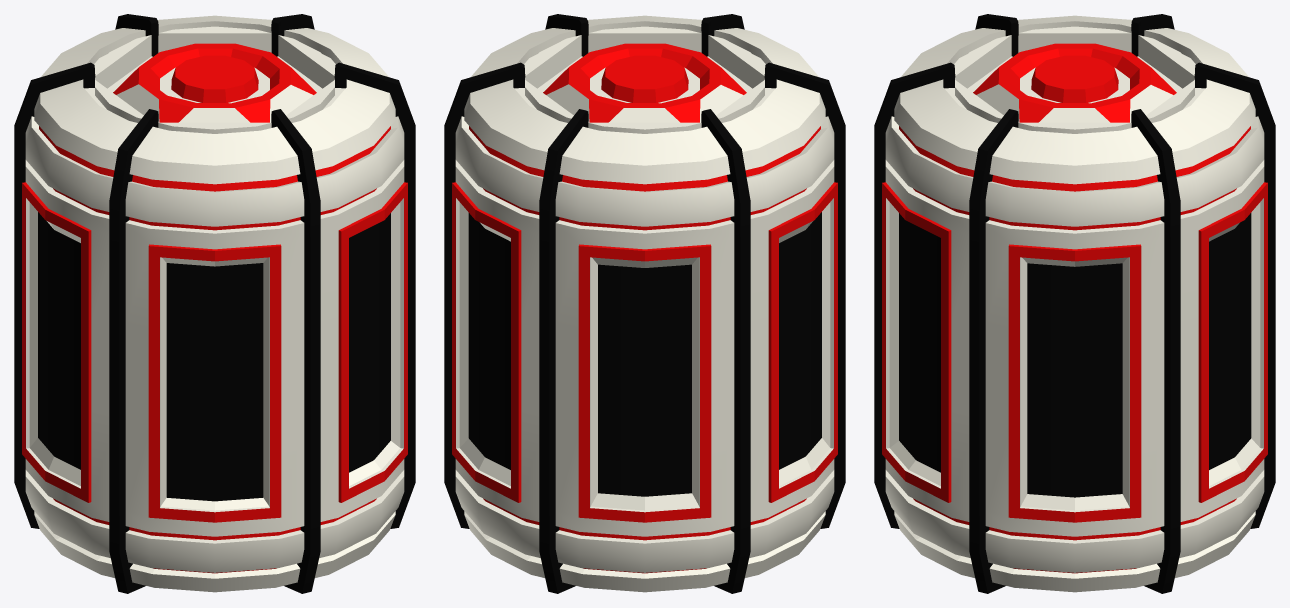
File: Baril bleu.fbx
The picture shows the model from 3 angles, left to right: view 1: azimuth 30°, elevation 25°; view 2: azimuth 150°, elevation 25°; view 3: azimuth 270°, elevation 25°; orthographic projection.
Visible parts, largest first — view 1: Cylinder001; view 2: Cylinder001; view 3: Cylinder001.
Boxes of the visible parts, left/top/right/bottom form: Cylinder001: left=14, top=14, right=415, bottom=593; Cylinder001: left=444, top=14, right=845, bottom=593; Cylinder001: left=874, top=14, right=1275, bottom=593.
Size of the model in its own units: 40.17 by 53.28 by 41.13.
